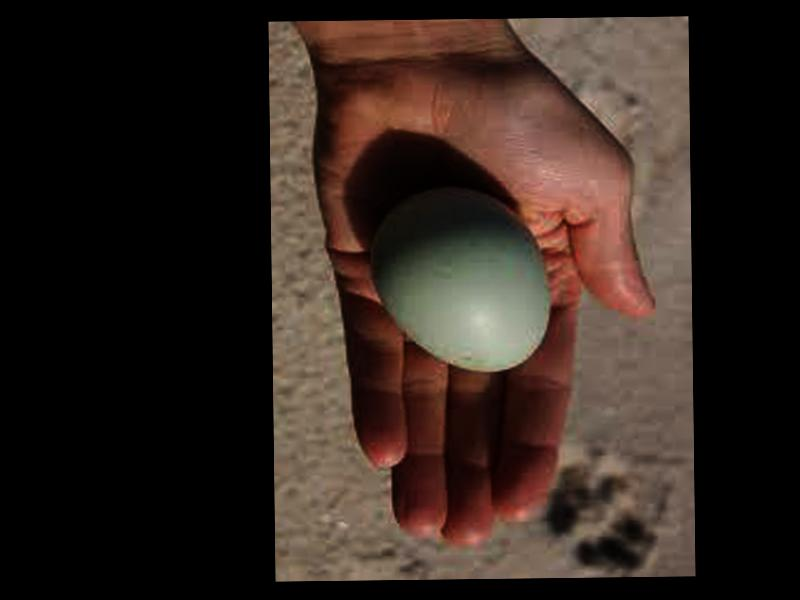Eggs: (369, 188, 547, 369)
